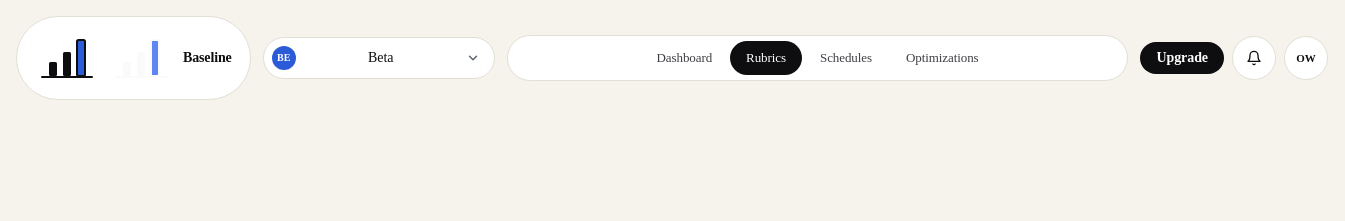
Test: NavBarClient › opens a switcher listing the orgs with the active one marked
Click the button with aria-label "Switch team" at (379,58), box [263,37,495,79]
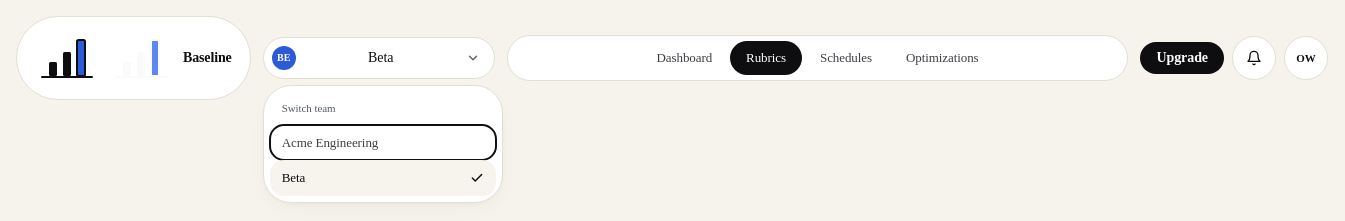
Result: the form named "orgId" holds "org-a" at [270,124,496,160]
